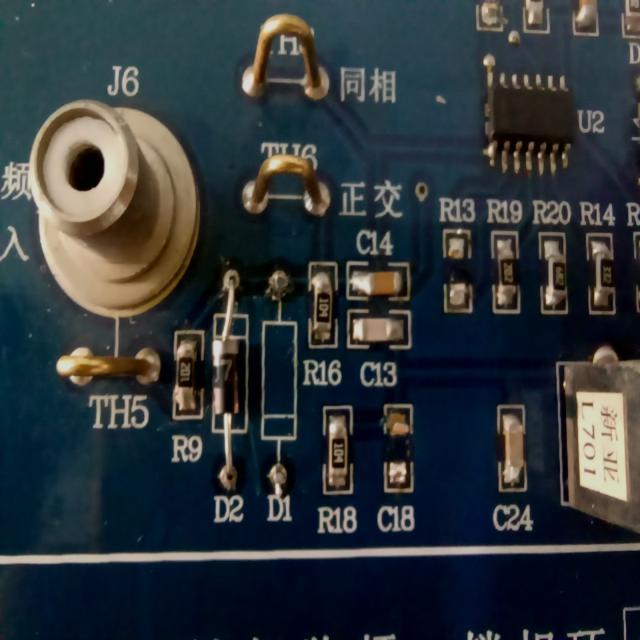Missing component: (258, 258, 304, 528), (375, 395, 425, 535), (436, 186, 480, 325)
